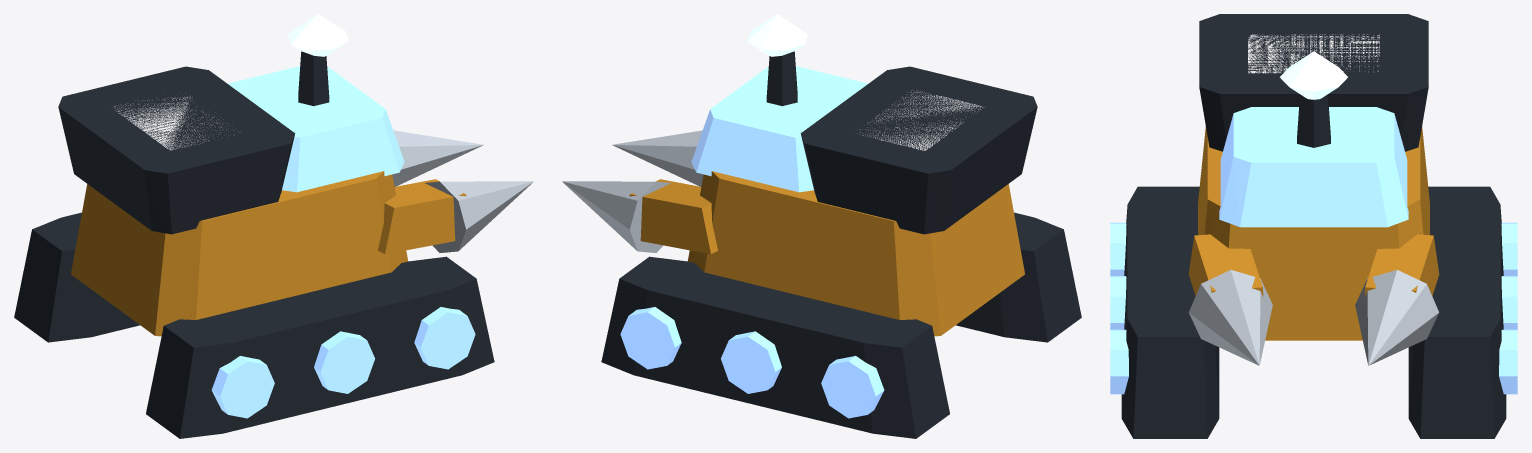
File: prospector.glb
3 views of the same model, side by side, from view 1: azimuth 30°, elevation 25°; view 2: azimuth 150°, elevation 25°; view 3: azimuth 270°, elevation 25° (orthographic). The views are drawn at different scales.
Visible parts, largest first — view 1: Surf_dark, Surf_yellow, Surf_TEAM, Surf_light, Surf_cyan, Surf_GLOW; view 2: Surf_dark, Surf_yellow, Surf_TEAM, Surf_light, Surf_GLOW, Surf_cyan; view 3: Surf_dark, Surf_TEAM, Surf_yellow, Surf_light, Surf_cyan, Surf_GLOW.
Boxes of the visible parts, x1,y1,x2,y2 form: Surf_dark: (14,51,494,438); Surf_yellow: (71,171,466,336); Surf_TEAM: (211,66,475,418); Surf_light: (392,130,533,252); Surf_cyan: (114,97,234,150); Surf_GLOW: (288,14,348,56); Surf_dark: (601,51,1081,438); Surf_yellow: (629,171,1024,336); Surf_TEAM: (620,66,884,418); Surf_light: (562,130,703,252); Surf_GLOW: (747,14,807,56); Surf_cyan: (862,90,983,150); Surf_dark: (1121,14,1506,438); Surf_TEAM: (1110,107,1517,394); Surf_yellow: (1188,126,1439,340); Surf_light: (1189,270,1438,365); Surf_cyan: (1248,34,1379,73); Surf_GLOW: (1280,51,1347,99).
Size of the model in its own units: 1.8 by 1.3 by 1.42.
